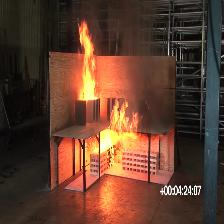fire: (86, 100, 138, 152), (78, 19, 99, 100)
